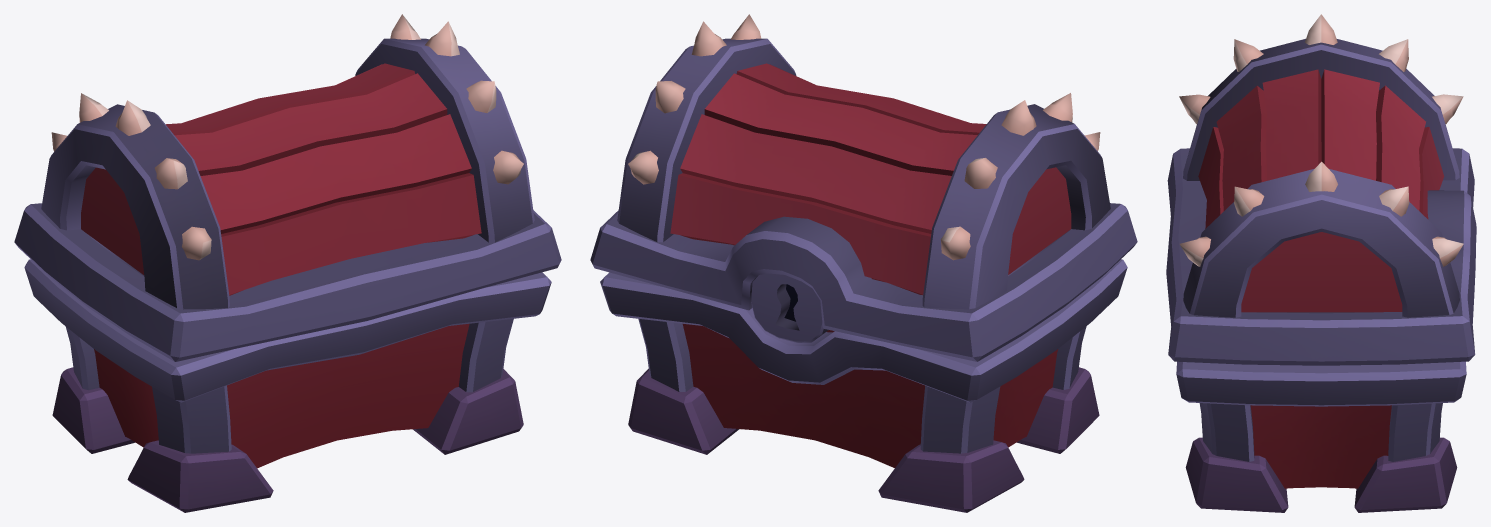
File: Chest1.fbx
The picture shows the model from 3 angles, left to right: view 1: azimuth 30°, elevation 25°; view 2: azimuth 150°, elevation 25°; view 3: azimuth 270°, elevation 25°; orthographic projection. The views are drawn at different scales.
Parts seen in each view (by area): view 1: Chest1; view 2: Chest1; view 3: Chest1.
Part boxes in pixels (left/top/right/bottom): Chest1: left=14, top=14, right=561, bottom=512; Chest1: left=590, top=14, right=1137, bottom=512; Chest1: left=1166, top=14, right=1476, bottom=512.
Bounding box in the file's own units: 147 × 125 × 102.
